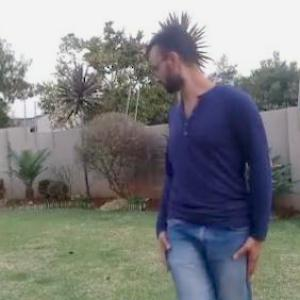follow: (142, 4, 276, 299)
